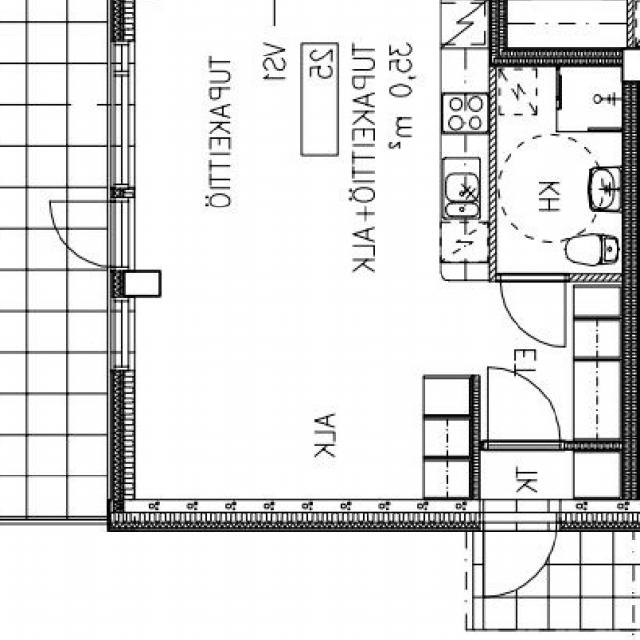door: (485, 498, 558, 608), (489, 367, 561, 452), (43, 200, 135, 266), (501, 273, 566, 347)
